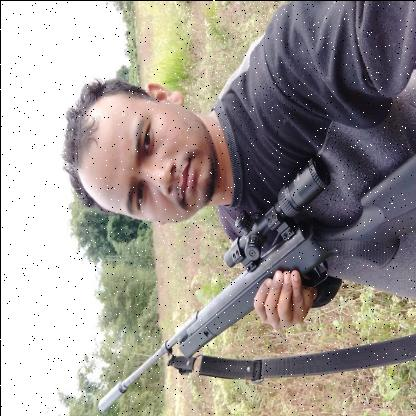rifle: (95, 149, 416, 413)
